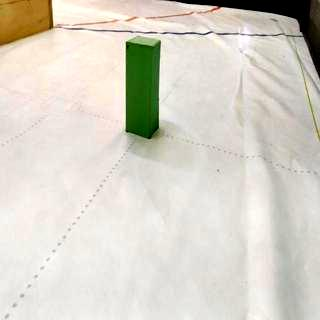greenbox: (122, 34, 162, 138)
